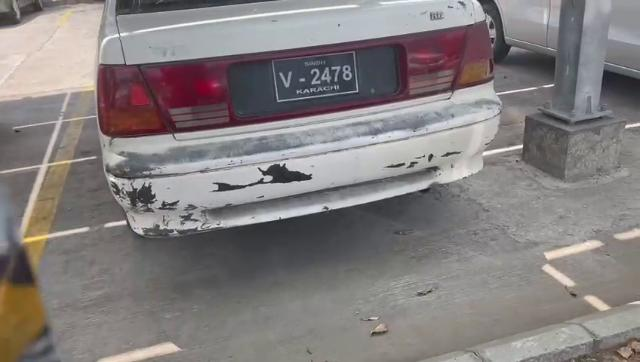plate: (267, 49, 369, 103)
